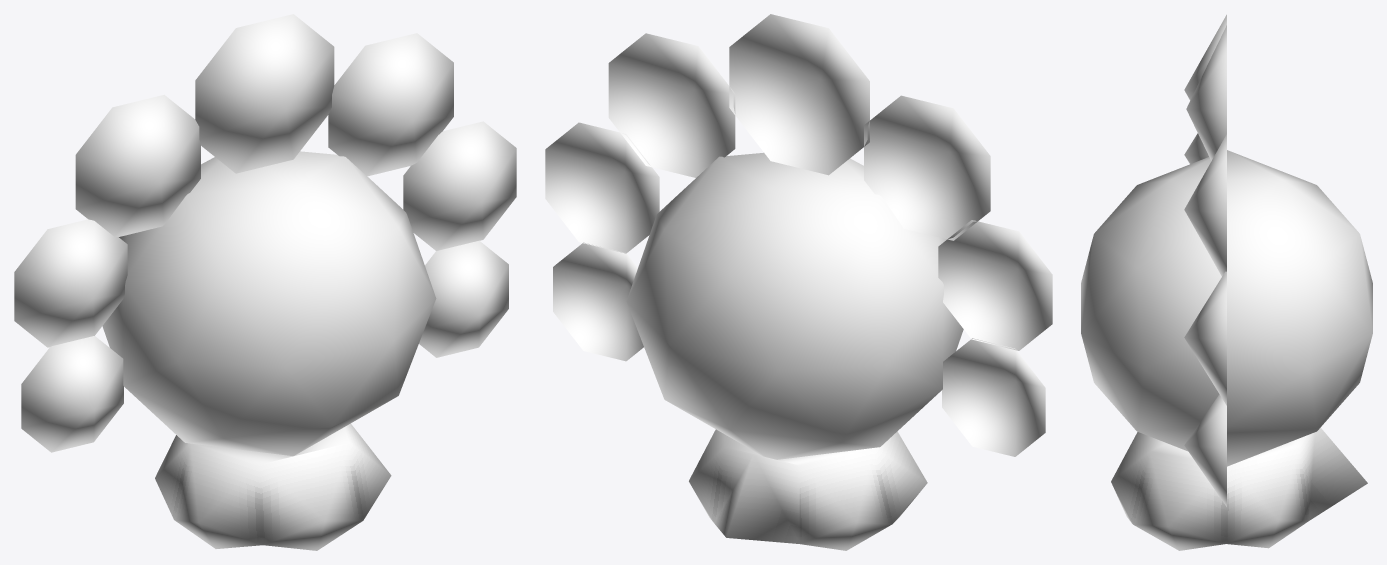
File: Castform_Sun.obj
3 views of the same model, side by side, from view 1: azimuth 30°, elevation 25°; view 2: azimuth 150°, elevation 25°; view 3: azimuth 270°, elevation 25° (orthographic). The views are drawn at different scales.
Visible parts, largest first — view 1: merged_8_0_node, merged_9_0_node, pCylinder1_0_0_node, pCylinder5_4_0_node, pCylinder2_1_0_node, pCylinder6_5_0_node, pCylinder3_2_0_node, pCylinder7_6_0_node, pCylinder4_3_0_node; view 2: merged_8_0_node, merged_9_0_node, pCylinder1_0_0_node, pCylinder2_1_0_node, pCylinder5_4_0_node, pCylinder6_5_0_node, pCylinder3_2_0_node, pCylinder7_6_0_node, pCylinder4_3_0_node; view 3: merged_8_0_node, merged_9_0_node, pCylinder2_1_0_node, pCylinder1_0_0_node, pCylinder3_2_0_node, pCylinder4_3_0_node, pCylinder5_4_0_node, pCylinder6_5_0_node.
Boxes of the visible parts, x1,y1,x2,y2 form: merged_8_0_node: (102, 151, 436, 456); merged_9_0_node: (155, 423, 391, 550); pCylinder1_0_0_node: (195, 14, 334, 173); pCylinder5_4_0_node: (75, 94, 200, 236); pCylinder2_1_0_node: (328, 33, 453, 176); pCylinder6_5_0_node: (14, 219, 127, 347); pCylinder3_2_0_node: (403, 121, 516, 250); pCylinder7_6_0_node: (21, 336, 123, 452); pCylinder4_3_0_node: (419, 240, 508, 357); merged_8_0_node: (626, 152, 963, 459); merged_9_0_node: (689, 429, 927, 550); pCylinder1_0_0_node: (729, 14, 869, 175); pCylinder2_1_0_node: (608, 33, 735, 177); pCylinder5_4_0_node: (864, 95, 990, 240); pCylinder6_5_0_node: (938, 220, 1052, 350); pCylinder3_2_0_node: (545, 122, 659, 253); pCylinder7_6_0_node: (942, 338, 1045, 456); pCylinder4_3_0_node: (553, 242, 643, 361); merged_8_0_node: (1081, 150, 1372, 466); merged_9_0_node: (1111, 427, 1367, 550); pCylinder2_1_0_node: (1184, 134, 1226, 276); pCylinder1_0_0_node: (1186, 25, 1226, 160); pCylinder3_2_0_node: (1184, 271, 1226, 405); pCylinder4_3_0_node: (1184, 394, 1226, 506); pCylinder5_4_0_node: (1184, 14, 1226, 100); pCylinder6_5_0_node: (1184, 133, 1208, 164).
Size of the model in its own units: 0.782 by 0.7325 by 0.4052.
